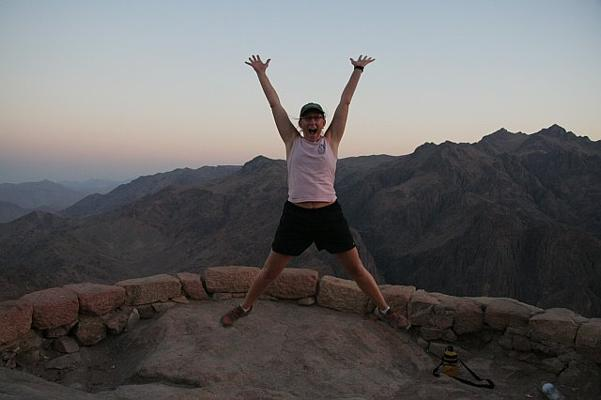person: (220, 56, 411, 333)
